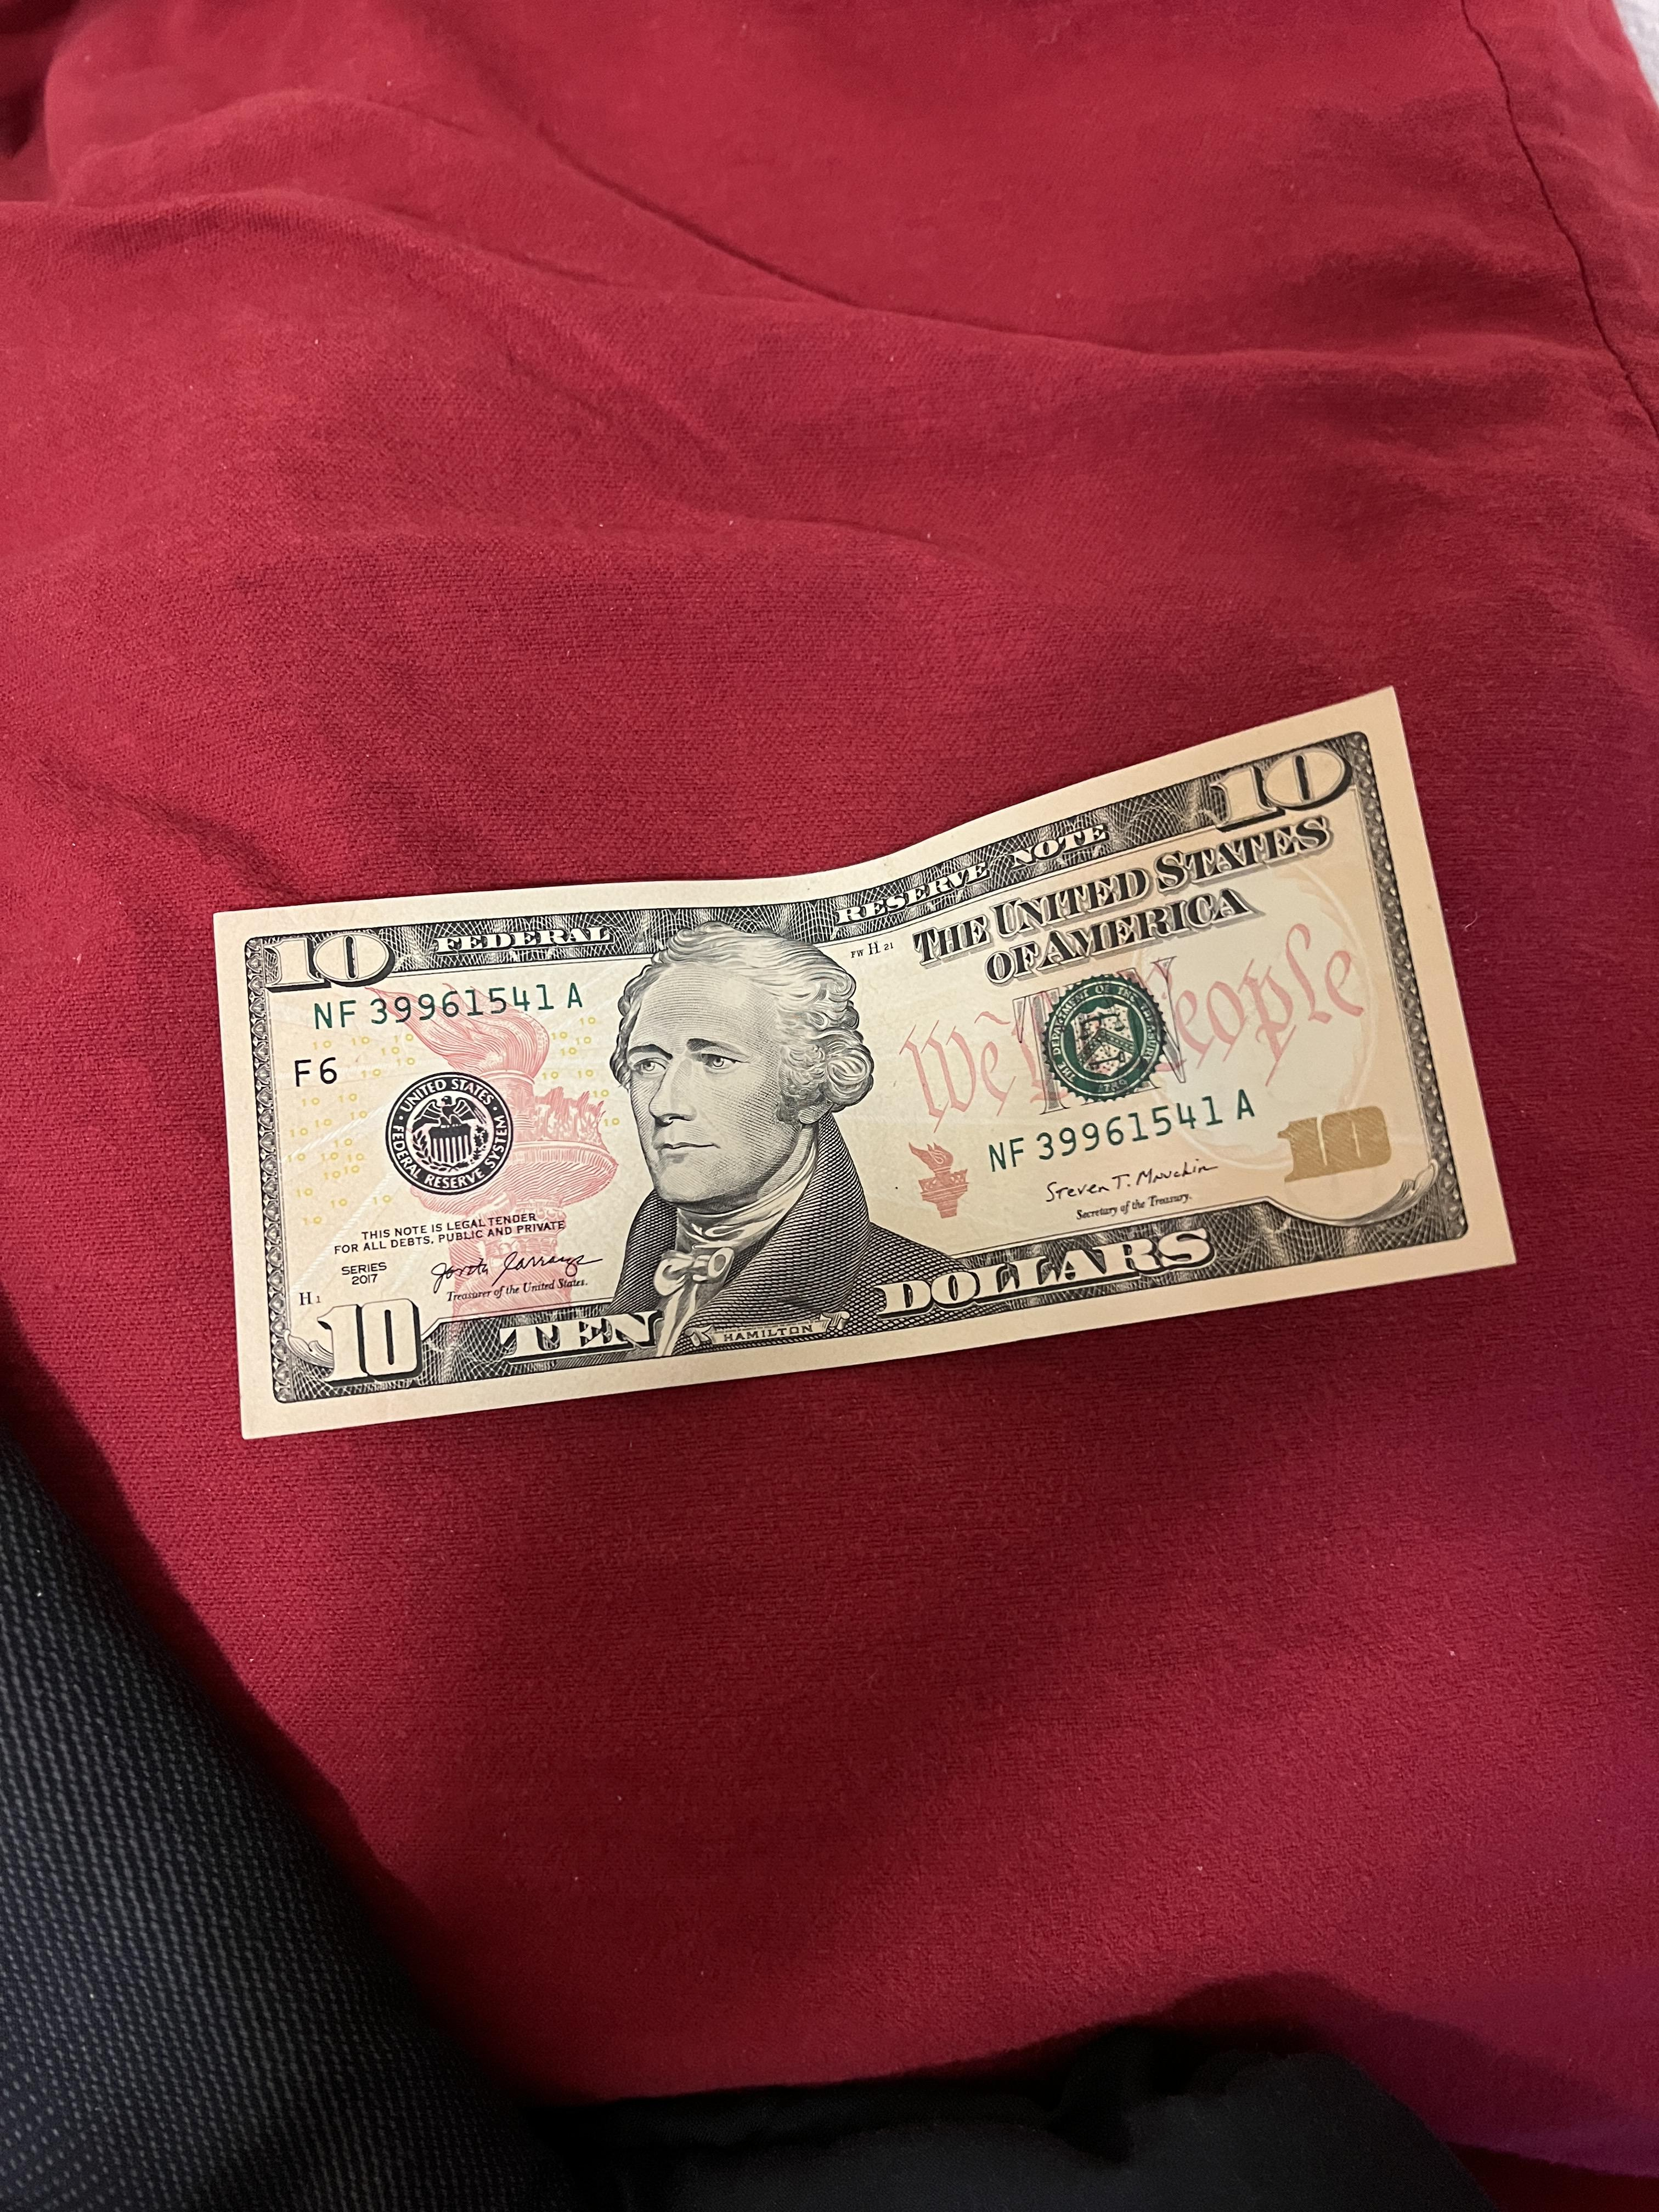TenBill: (216, 678, 1537, 1458)
